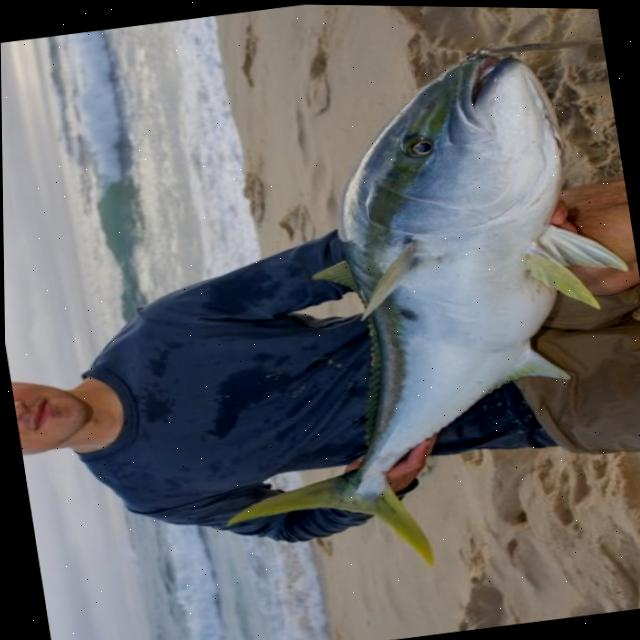Kingfish: (152, 29, 640, 598)
